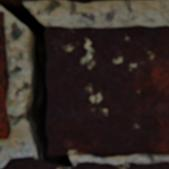brick: (45, 26, 168, 157), (0, 13, 10, 139), (0, 0, 127, 4)
broken_brick: (3, 157, 168, 168)
crack: (0, 2, 73, 166)
